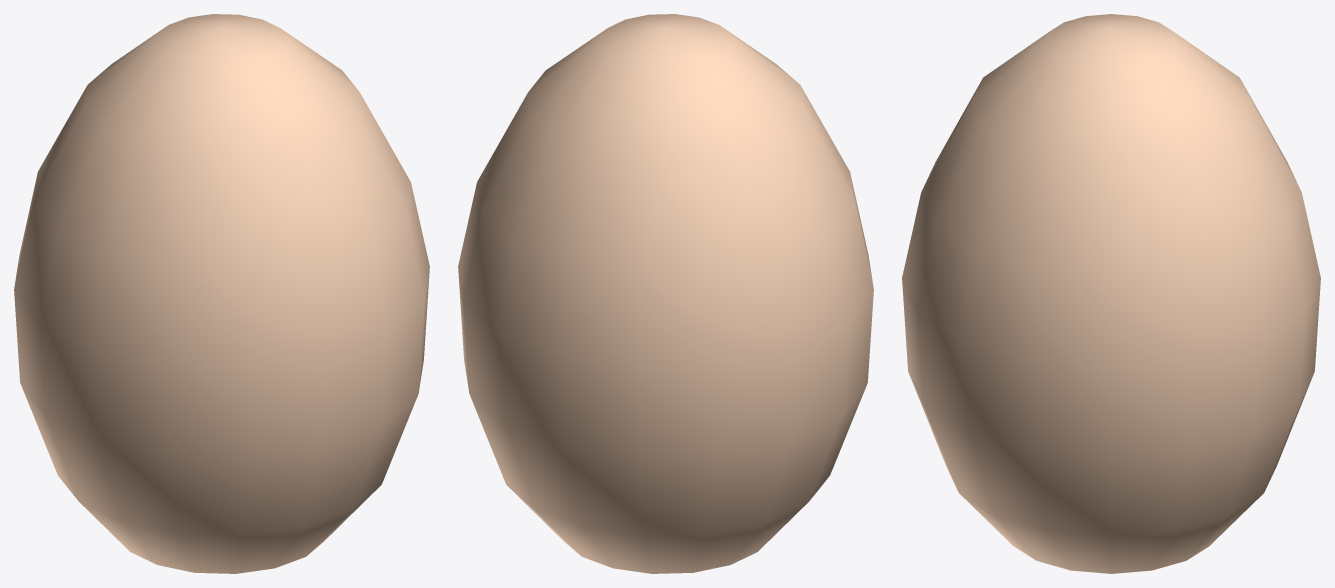
Rendered from egg.glb.
3 renders of one model, left to right at view 1: azimuth 30°, elevation 25°; view 2: azimuth 150°, elevation 25°; view 3: azimuth 270°, elevation 25°, orthographic.
Parts seen in each view (by area): view 1: Egg2; view 2: Egg2; view 3: Egg2.
Boxes of the visible parts, x1,y1,x2,y2 form: Egg2: [14, 14, 429, 573]; Egg2: [458, 14, 873, 573]; Egg2: [902, 14, 1320, 573].
Bounding box in the file's own units: 0.2096 × 0.2955 × 0.2096.
